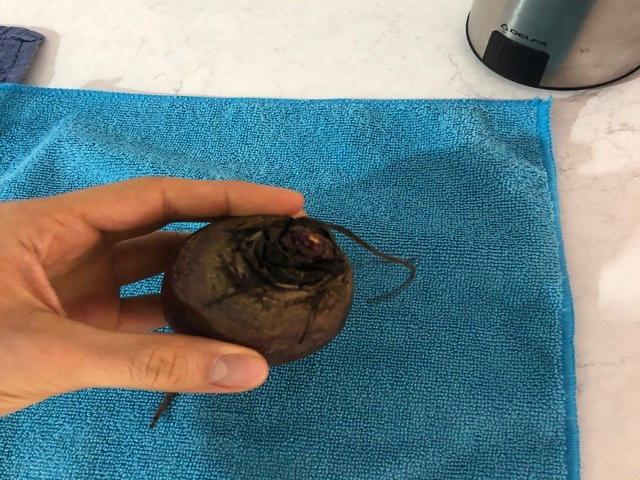beet: (150, 216, 413, 428)
